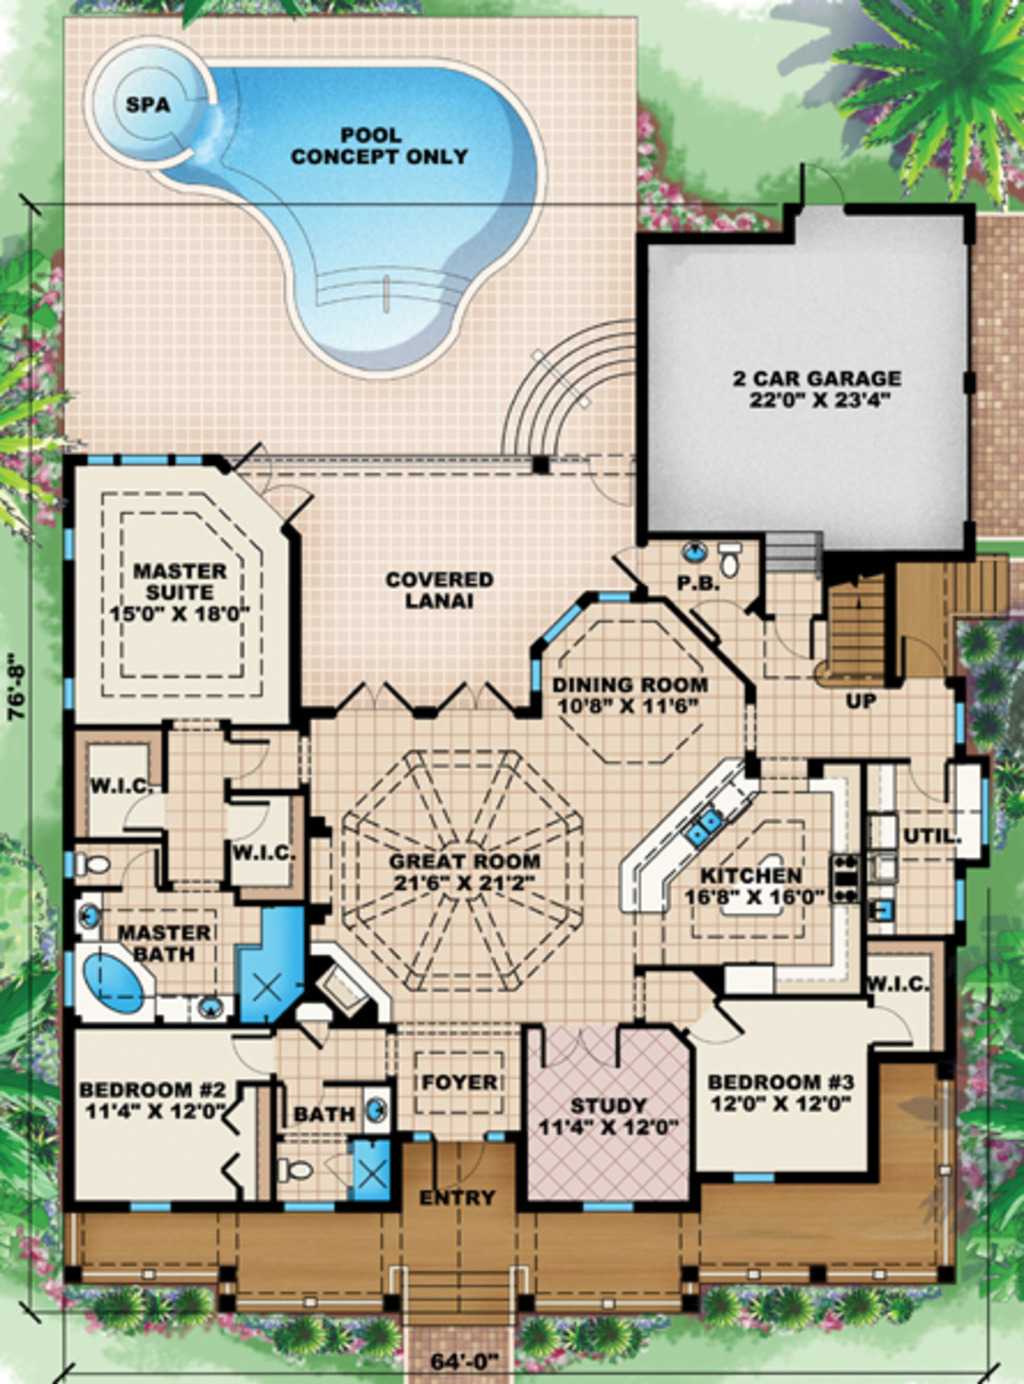door: (234, 434, 322, 531), (529, 1016, 626, 1072), (688, 987, 746, 1053), (697, 593, 760, 644), (333, 677, 410, 719), (861, 1001, 920, 1054), (427, 682, 510, 719), (899, 759, 958, 809), (213, 732, 273, 776), (219, 798, 272, 847), (774, 607, 816, 662), (902, 638, 948, 682), (119, 793, 161, 831)
large_sink: (270, 1153, 319, 1195), (69, 844, 114, 888), (703, 536, 746, 582)
small_sink: (361, 1085, 392, 1138)
stairs: (817, 556, 899, 690)
tub: (69, 934, 151, 1022)
windows: (83, 447, 214, 469)
